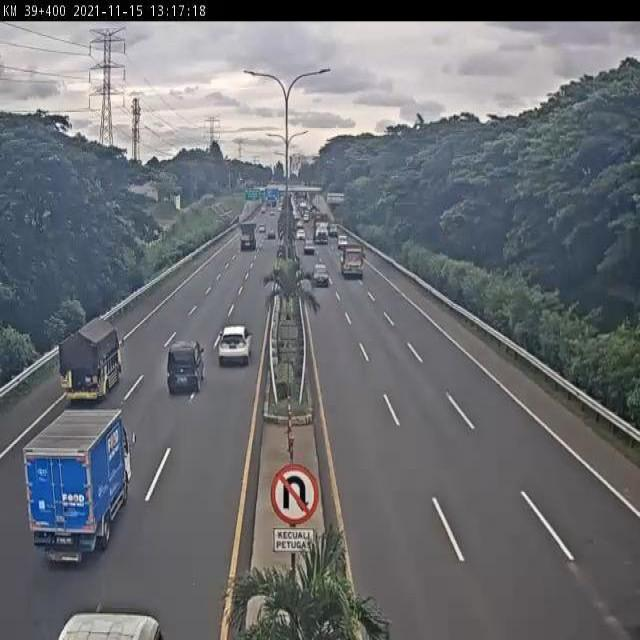big truck: (340, 241, 366, 279)
car: (165, 337, 206, 396), (215, 321, 254, 368), (310, 260, 331, 291)
truck-m-: (24, 406, 133, 562), (58, 317, 124, 403)
